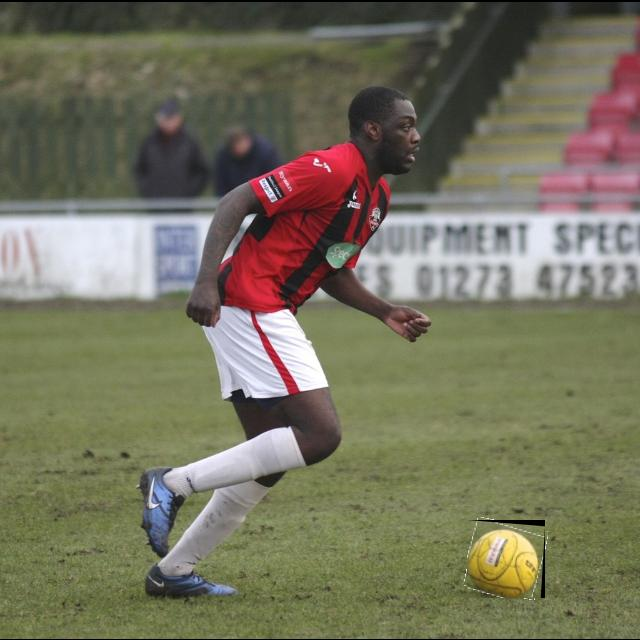Football: (467, 520, 545, 598)
